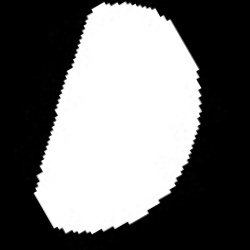spot: (37, 6, 202, 233)
